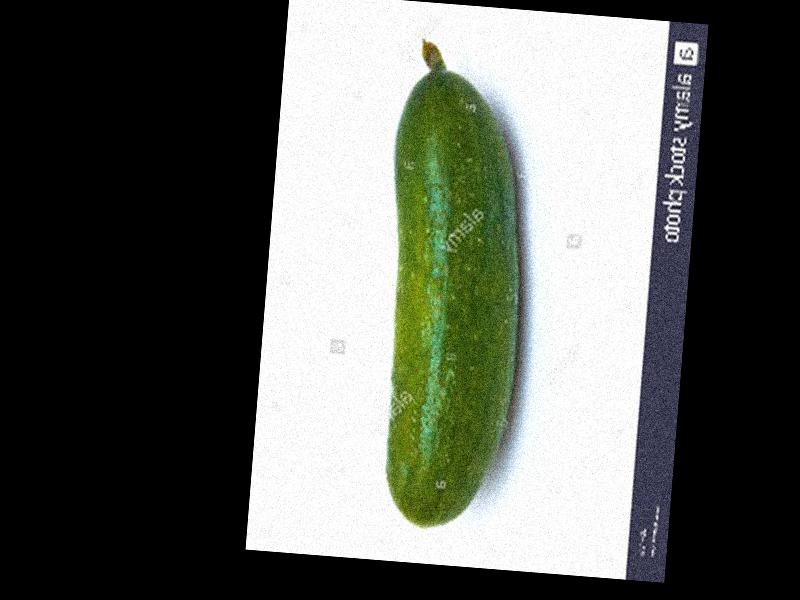Cucumber: (364, 37, 539, 535)
